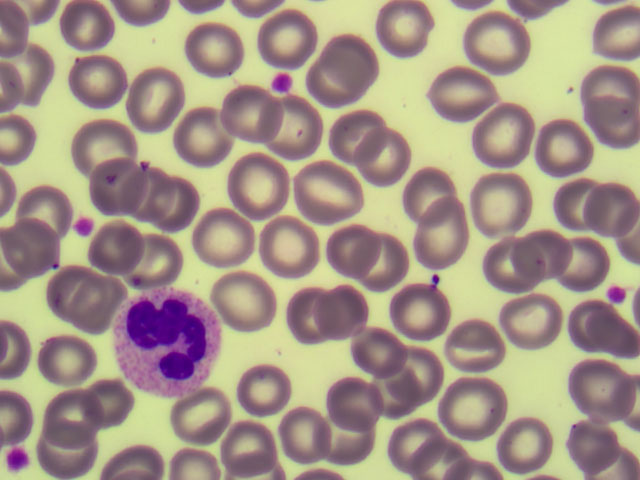Platelets: (71, 216, 97, 238), (270, 70, 294, 92), (4, 446, 26, 468), (606, 284, 625, 303)
RBC: (226, 426, 281, 480), (68, 58, 123, 111), (130, 70, 185, 123), (184, 24, 239, 77), (208, 81, 263, 134), (264, 103, 319, 156), (255, 14, 310, 67), (331, 30, 386, 83), (299, 64, 354, 117), (167, 112, 222, 165), (151, 182, 206, 235), (125, 164, 180, 217), (93, 154, 148, 207), (75, 120, 130, 173), (17, 176, 72, 229), (8, 215, 63, 268), (37, 266, 92, 319), (69, 278, 124, 331), (82, 223, 137, 276), (129, 228, 184, 281), (199, 210, 254, 263), (225, 275, 280, 328), (259, 221, 314, 274), (229, 157, 284, 210), (297, 166, 352, 219), (354, 132, 409, 185), (328, 103, 383, 156), (396, 156, 451, 209), (416, 213, 471, 266), (359, 238, 414, 291), (323, 223, 378, 276), (320, 284, 375, 337), (278, 288, 333, 341), (240, 363, 295, 416), (271, 413, 326, 466), (317, 415, 372, 468), (335, 378, 390, 431), (364, 366, 419, 419), (385, 344, 440, 397), (350, 322, 405, 375), (388, 281, 443, 334), (449, 318, 504, 371), (451, 381, 506, 434), (388, 412, 443, 465), (491, 414, 546, 467), (506, 295, 561, 348), (483, 241, 538, 294), (513, 228, 568, 281), (557, 231, 612, 284), (552, 184, 607, 237), (585, 180, 640, 233), (541, 127, 596, 180), (473, 111, 528, 164), (432, 66, 487, 119), (465, 15, 520, 68), (375, 4, 430, 57), (580, 57, 635, 110), (585, 111, 640, 164), (471, 178, 526, 231), (555, 295, 610, 348), (571, 363, 626, 416), (573, 417, 628, 470), (180, 389, 235, 442), (38, 426, 93, 479), (46, 389, 101, 442), (81, 372, 136, 425), (35, 332, 90, 385), (4, 46, 59, 99), (1, 121, 55, 174), (58, 1, 113, 53)
WBC: (113, 287, 221, 395)
